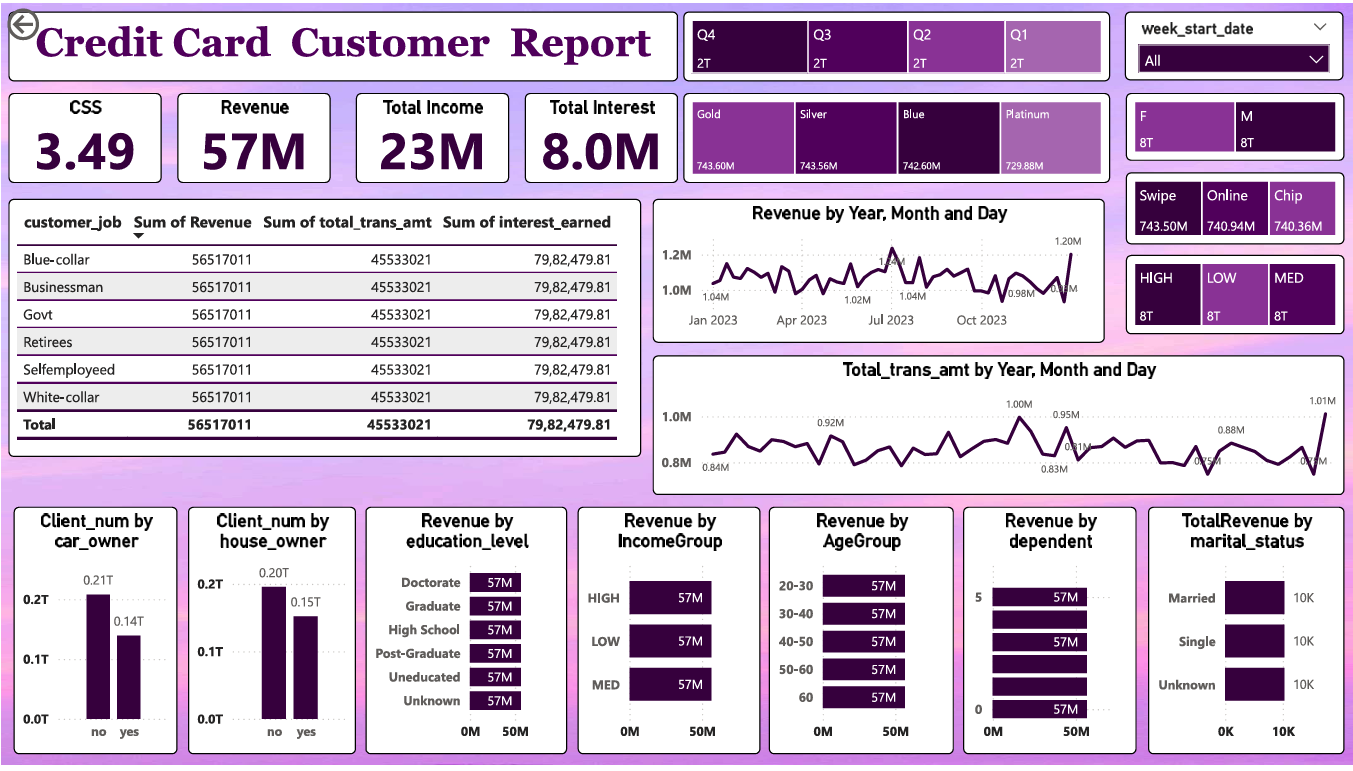

Layout of this report page (visuals, bound fields, positions):
{"tool":"powerbi","page":{"name":"CC Customer","canvas":[1280,720],"ordinal":2},"visuals":[{"type":"textbox","box":[6.2,7.5,633.8,66.2],"z":0},{"type":"tableEx","fields":{"Values":["public cust_detail.customer_job","Sum(public cc_detail.Revenue)","Sum(public cc_detail.total_trans_amt)","Sum(public cc_detail.interest_earned)"]},"box":[6.2,185,598.8,243.8],"z":1000},{"type":"card","title":"Revenue","fields":{"Values":["Sum(public cc_detail.Revenue)"]},"box":[166.2,85,145,85],"z":2000},{"type":"card","title":"Total Income","fields":{"Values":["Sum(public cust_detail.income)"]},"box":[335,85,145,85],"z":3000},{"type":"card","title":"Total Interest","fields":{"Values":["Sum(public cc_detail.interest_earned)"]},"box":[495,85,145,85],"z":4000},{"type":"card","title":"CSS","fields":{"Values":["Avg(public cust_detail.cust_satisfaction_score)"]},"box":[6.2,85,145,85],"z":5000},{"type":"slicer","fields":{"Values":["public cc_detail.week_start_date"]},"box":[1062.5,7.5,207.5,65],"z":6000},{"type":"treemap","fields":{"Group":["public cc_detail.qtr"],"Values":["Sum(public cc_detail.client_num)"]},"box":[645,7.5,403.8,66.2],"z":7000},{"type":"treemap","fields":{"Group":["public cust_detail.gender"],"Values":["Sum(public cc_detail.client_num)"]},"box":[1063.8,85,207.5,63.8],"z":8000},{"type":"treemap","fields":{"Values":["Sum(public cc_detail.client_num)"],"Group":["public cust_detail.IncomeGroup"]},"box":[1063.8,237.5,207.5,75],"z":9000},{"type":"treemap","fields":{"Group":["public cc_detail.card_category"],"Values":["Avg(public cc_detail.client_num)"]},"box":[645,85,403.8,85],"z":10000},{"type":"lineChart","title":"Revenue by Year, Month and Day","fields":{"Y":["Sum(public cc_detail.Revenue)"],"Category":["public cc_detail.week_start_date.Variation.Date Hierarchy.Year","public cc_detail.week_start_date.Variation.Date Hierarchy.Month","public cc_detail.week_start_date.Variation.Date Hierarchy.Day"]},"box":[616.2,185,427.5,136.2],"z":11000},{"type":"columnChart","title":"Client_num by car_owner","fields":{"Category":["public cust_detail.car_owner"],"Y":["Sum(public cust_detail.client_num)"]},"box":[11.2,476.2,155,233.8],"z":12000},{"type":"columnChart","title":"Client_num by house_owner","fields":{"Category":["public cust_detail.house_owner"],"Y":["Sum(public cust_detail.client_num)"]},"box":[176.2,476.2,158.8,233.8],"z":13000},{"type":"barChart","title":"Revenue by IncomeGroup","fields":{"Y":["Sum(public cc_detail.Revenue)"],"Category":["public cust_detail.IncomeGroup"]},"box":[545,476.2,172.5,233.8],"z":14000},{"type":"barChart","title":"Revenue by AgeGroup","fields":{"Category":["public cust_detail.AgeGroup"],"Y":["Sum(public cc_detail.Revenue)"]},"box":[726.2,476.2,175,233.8],"z":15000},{"type":"barChart","title":"Revenue by dependent","fields":{"Y":["Sum(public cc_detail.TotalRevenue)"],"Category":["public cust_detail.dependent_count"]},"box":[910,476.2,163.8,233.8],"z":16000},{"type":"barChart","title":"Revenue by education_level","fields":{"Category":["public cust_detail.education_level"],"Y":["Sum(public cc_detail.Revenue)"]},"box":[343.8,476.2,191.2,233.8],"z":17000},{"type":"barChart","title":"TotalRevenue by marital_status","fields":{"Category":["public cust_detail.marital_status"],"Y":["CountNonNull(public cc_detail.Revenue)"]},"box":[1085,476.2,186.2,233.8],"z":19000},{"type":"actionButton","box":[0,0,100,40],"z":19001},{"type":"treemap","fields":{"Values":["Avg(public cc_detail.client_num)"],"Group":["public cc_detail.use_chip"]},"box":[1063.8,160,207.5,67.5],"z":19002},{"type":"lineChart","title":"Total_trans_amt by Year, Month and Day","fields":{"Y":["Sum(public cc_detail.total_trans_amt)"],"Category":["public cc_detail.week_start_date.Variation.Date Hierarchy.Year","public cc_detail.week_start_date.Variation.Date Hierarchy.Month","public cc_detail.week_start_date.Variation.Date Hierarchy.Day"]},"box":[616.2,332.5,655,132.5],"z":19003}]}

Visuals, with their boxes in screenshot pixels (x1, y1, x2, y2), scaled from the page's 1280x720 canvas onto the 1353x771 screenshot:
textbox: bbox=[7, 8, 676, 79]
tableEx - public cust_detail.customer_job x Sum(public cc_detail.Revenue): bbox=[7, 198, 640, 459]
"Revenue" card: bbox=[176, 91, 329, 182]
"Total Income" card: bbox=[354, 91, 507, 182]
"Total Interest" card: bbox=[523, 91, 676, 182]
"CSS" card: bbox=[7, 91, 160, 182]
slicer - public cc_detail.week_start_date: bbox=[1123, 8, 1342, 78]
treemap - public cc_detail.qtr x Sum(public cc_detail.client_num): bbox=[682, 8, 1109, 79]
treemap - public cust_detail.gender x Sum(public cc_detail.client_num): bbox=[1124, 91, 1344, 159]
treemap - Sum(public cc_detail.client_num) x public cust_detail.IncomeGroup: bbox=[1124, 254, 1344, 335]
treemap - public cc_detail.card_category x Avg(public cc_detail.client_num): bbox=[682, 91, 1109, 182]
"Revenue by Year, Month and Day" lineChart: bbox=[651, 198, 1103, 344]
"Client_num by car_owner" columnChart: bbox=[12, 510, 176, 760]
"Client_num by house_owner" columnChart: bbox=[186, 510, 354, 760]
"Revenue by IncomeGroup" barChart: bbox=[576, 510, 758, 760]
"Revenue by AgeGroup" barChart: bbox=[768, 510, 953, 760]
"Revenue by dependent" barChart: bbox=[962, 510, 1135, 760]
"Revenue by education_level" barChart: bbox=[363, 510, 566, 760]
"TotalRevenue by marital_status" barChart: bbox=[1147, 510, 1344, 760]
actionButton: bbox=[0, 0, 106, 43]
treemap - Avg(public cc_detail.client_num) x public cc_detail.use_chip: bbox=[1124, 171, 1344, 244]
"Total_trans_amt by Year, Month and Day" lineChart: bbox=[651, 356, 1344, 498]
